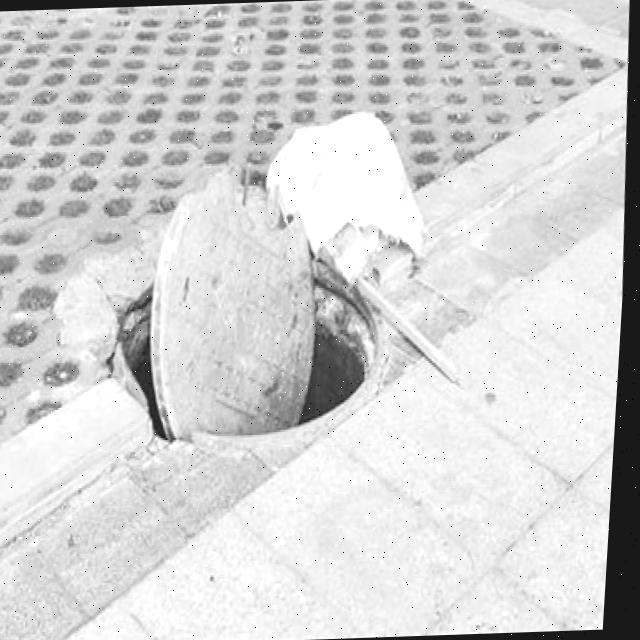manhole: (108, 195, 396, 438)
